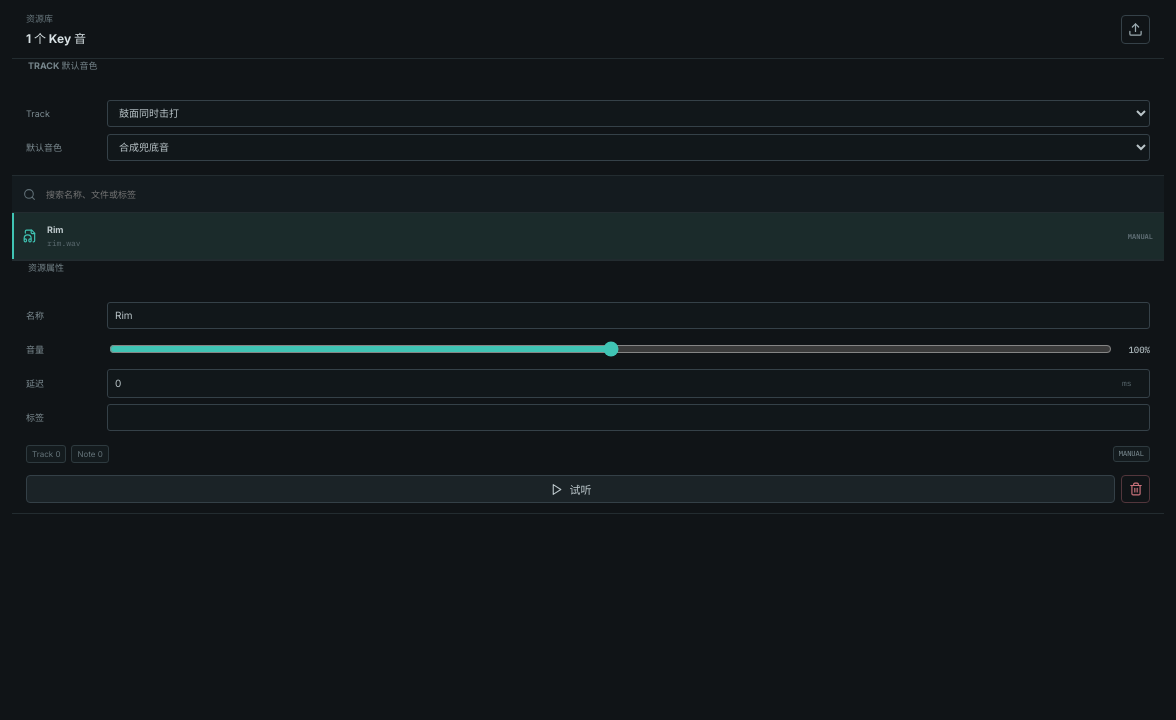
KeySoundLibrary › restores project metadata when storage deletion fails
Step 1. Click the button named "删除 Rim" → {"x": 1136, "y": 489}, box [1121,475,1150,503]
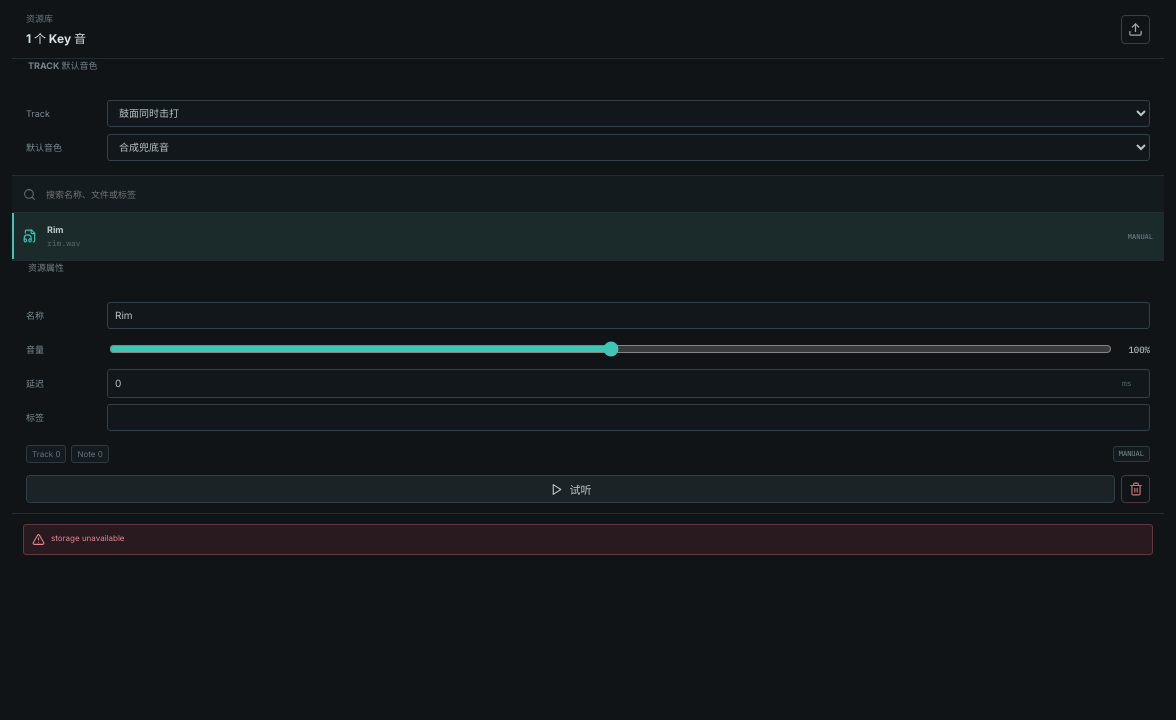
Check: the message reads "storage unavailable", box [51,533,124,543]
